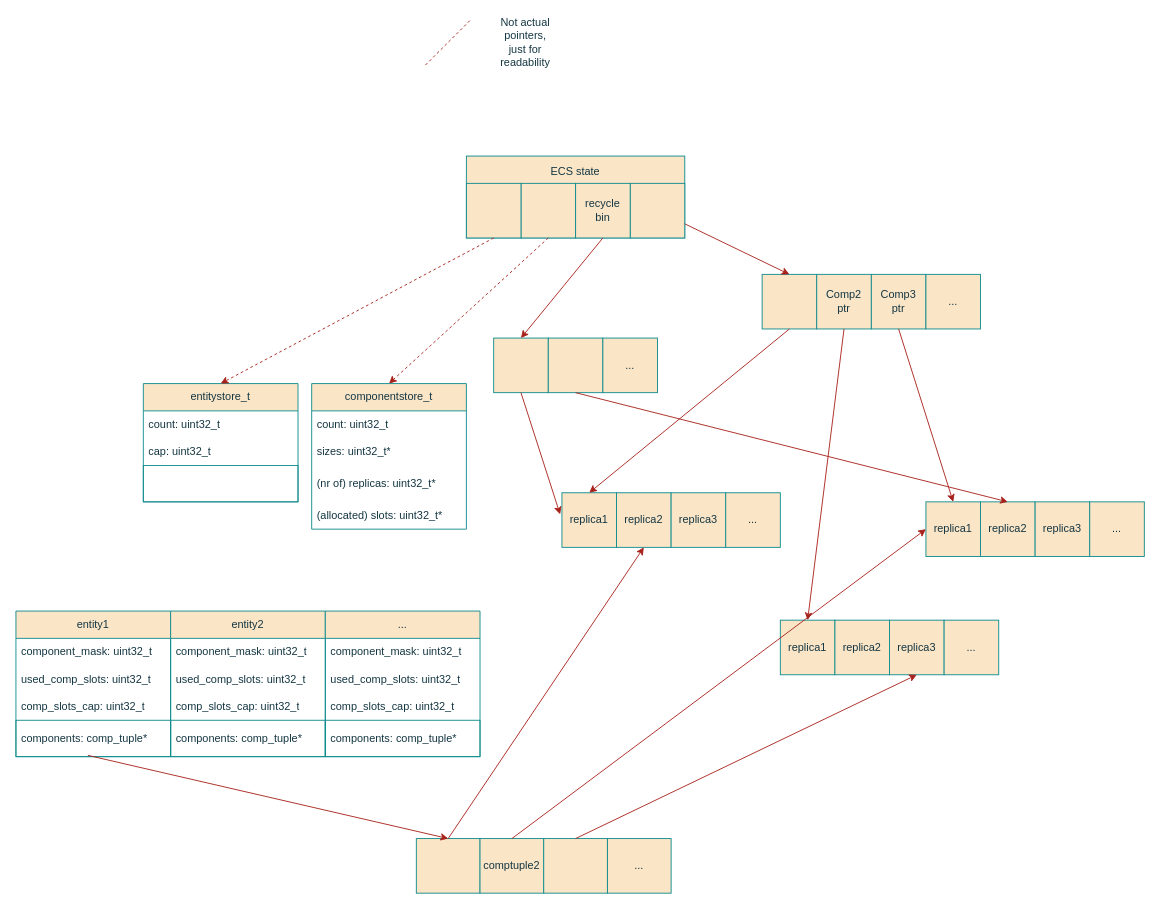
The diagram is 1160 pixels wide and 909 high, and some of its shapes have lost their labels. The centre of each missing label's shape, as x and y in pixels:
"Comp1 ptr" goes at pixel 789 301.
"component store" goes at pixel 548 210.
"comptuple1" goes at pixel 447 865.
"comptuple3" goes at pixel 575 865.
"entities: entity_t*" goes at pixel 220 483.
"entity store" goes at pixel 493 210.
"recicle component 1" goes at pixel 520 365.
"recycle component 2" goes at pixel 575 365.
"stack" goes at pixel 657 210.
